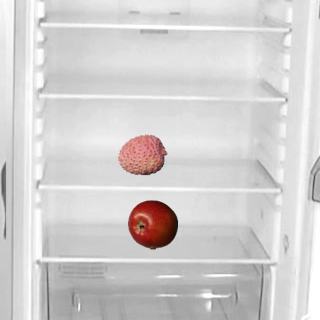Apple Braeburn: (127, 199, 177, 249)
Lychee: (117, 129, 167, 179)
